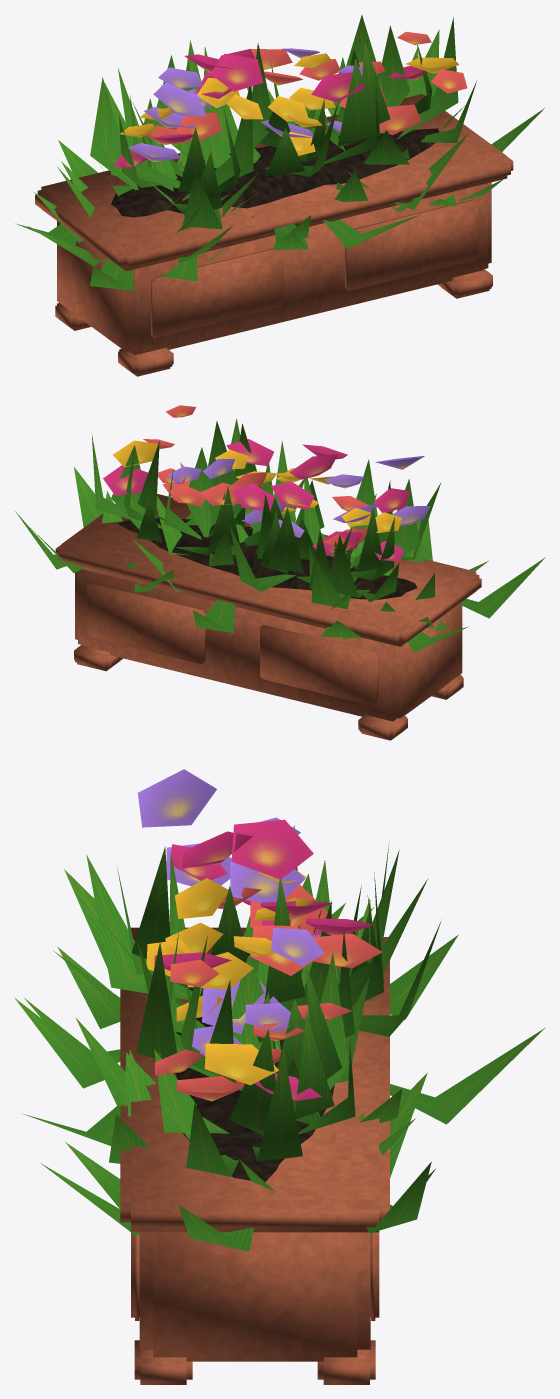
The model's file is prop_planter_lush_aaa-74a774127ef2.glb.
3 renders of one model, top to bottom at view 1: azimuth 30°, elevation 25°; view 2: azimuth 150°, elevation 25°; view 3: azimuth 270°, elevation 25°, orthographic. The views are drawn at different scales.
Visible parts, largest first — view 1: prop_planter_lush_aaa; view 2: prop_planter_lush_aaa; view 3: prop_planter_lush_aaa.
Part boxes in pixels (x1=…): prop_planter_lush_aaa: x1=15, y1=15, x2=544, y2=376; prop_planter_lush_aaa: x1=15, y1=405, x2=545, y2=740; prop_planter_lush_aaa: x1=15, y1=769, x2=545, y2=1384.
Bounding box in the file's own units: 1.72 × 0.8854 × 1.1.
Materials: 3 (3 with a texture image).
